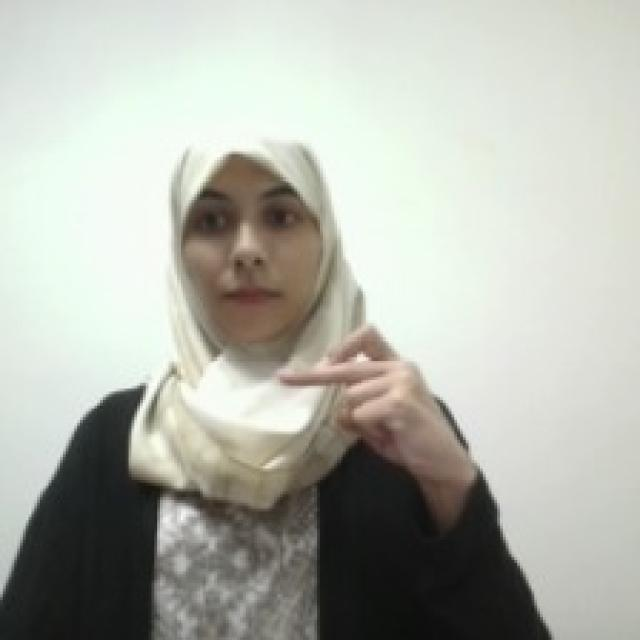sunday: (274, 316, 442, 469)
